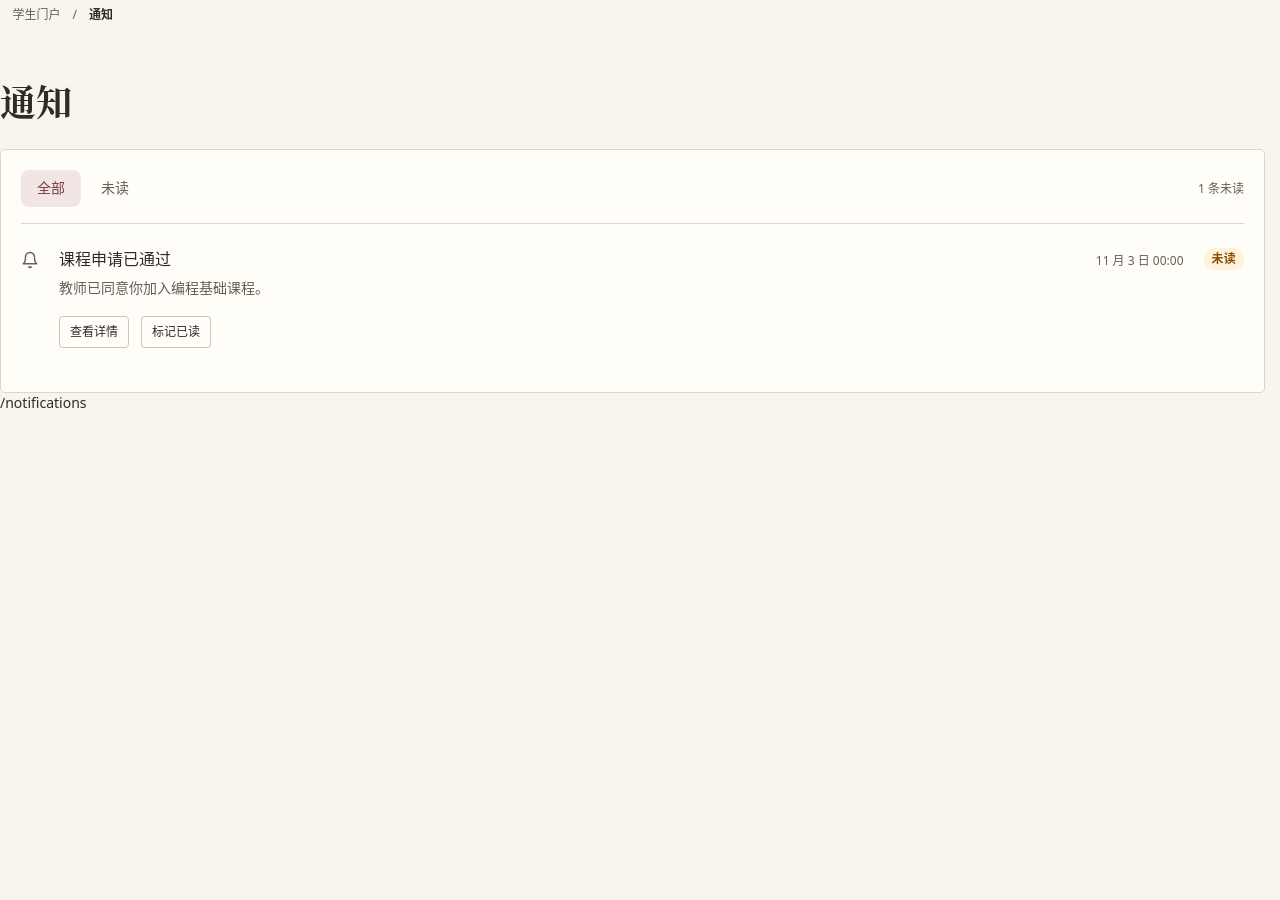
it: 自动标记失败仍可阅读正文并在详情重试
What coordinates should you click on to do the following:
click the button "查看详情"
I would click on:
 (94, 332)
Its box is [59,316,129,348].
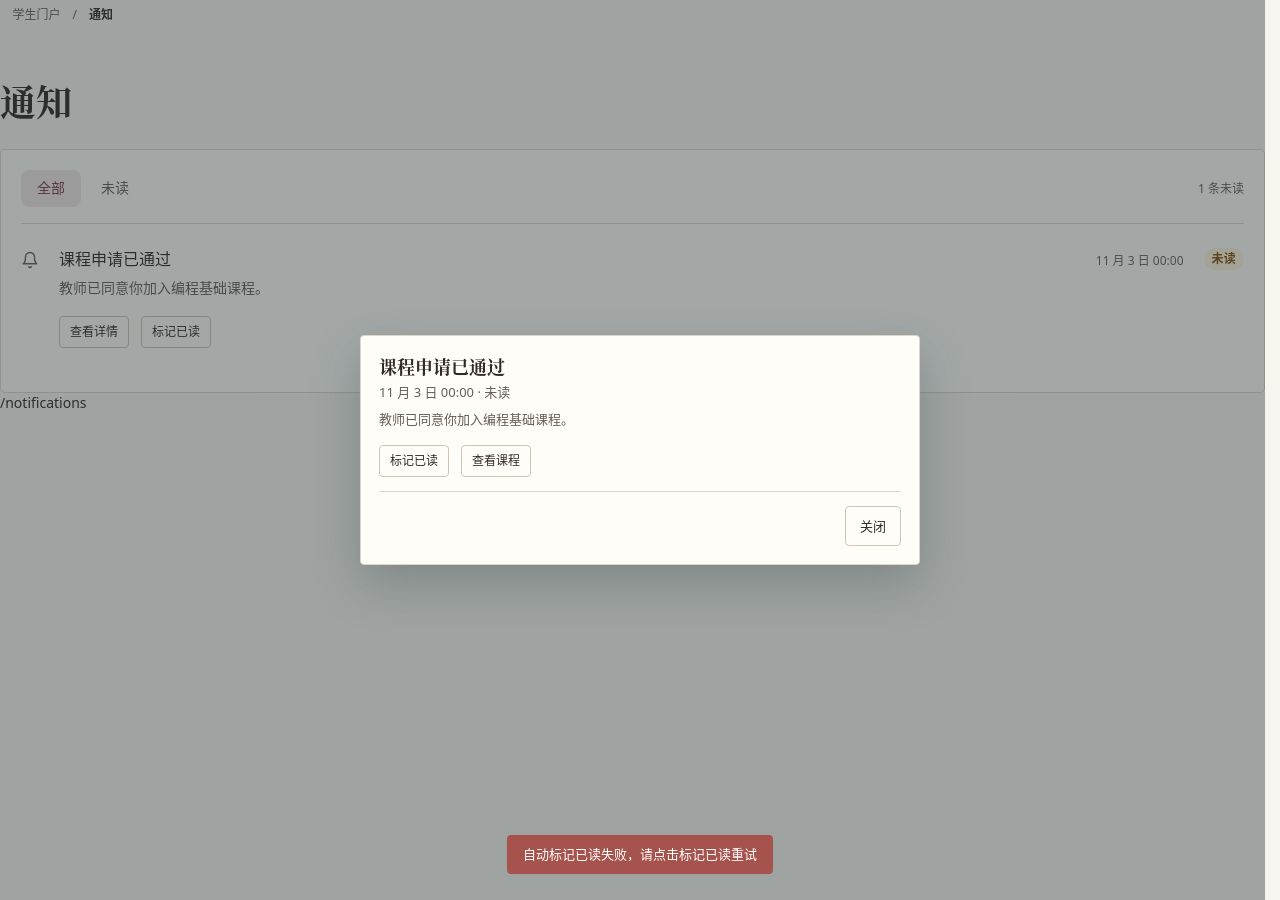
Expected: the text "自动标记已读失败，请点击标记已读重试" is shown, [507,835,773,874]
Expected: the text "教师已同意你加入编程基础课程。" is shown, [379,410,574,428]
Expected: the button "标记已读" is enabled
What coordinates should you click on to do the following:
click the button "标记已读"
I would click on:
 (414, 461)
Its box is [379,445,449,477].
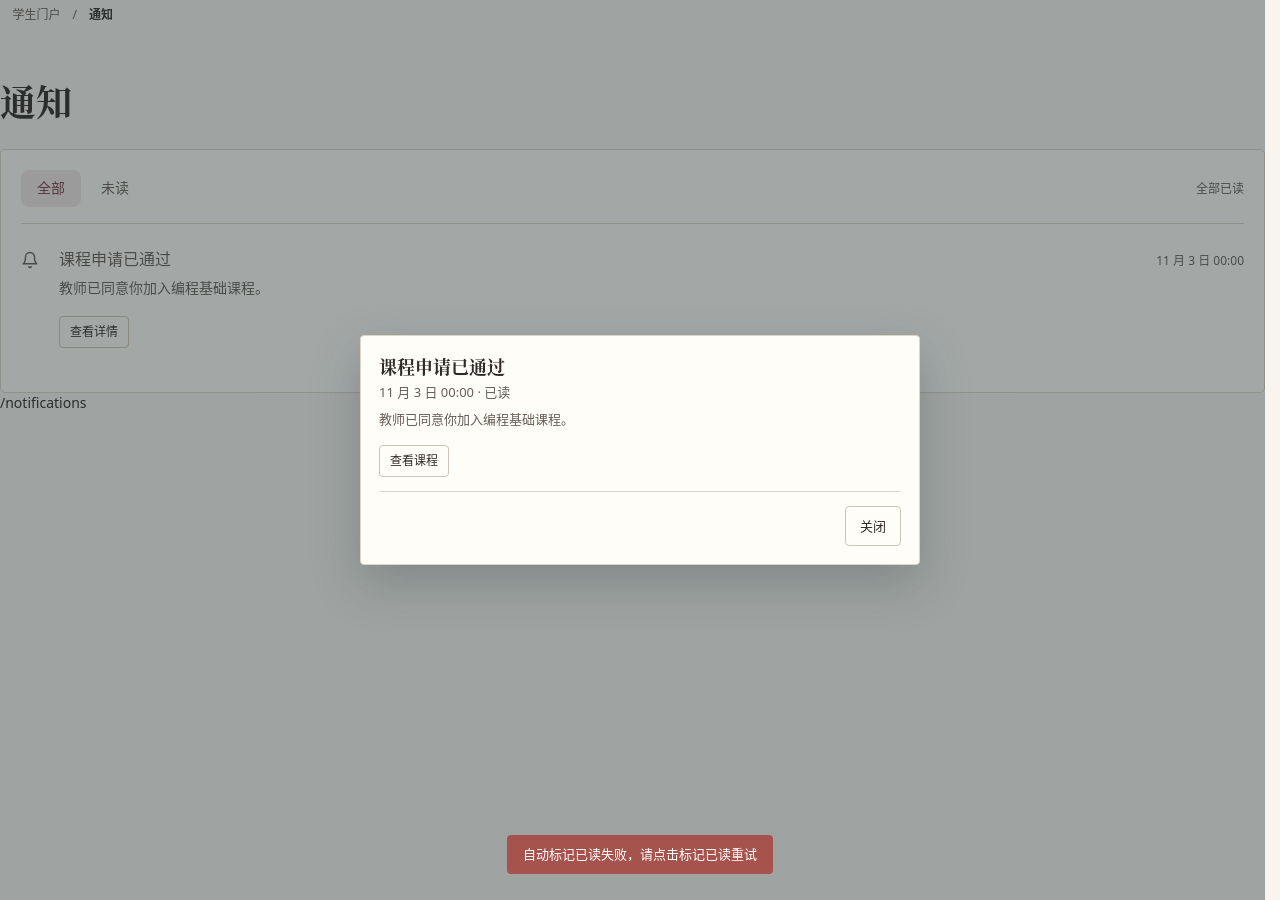
Expected: the text "全部已读" is shown, [1196,180,1244,197]
